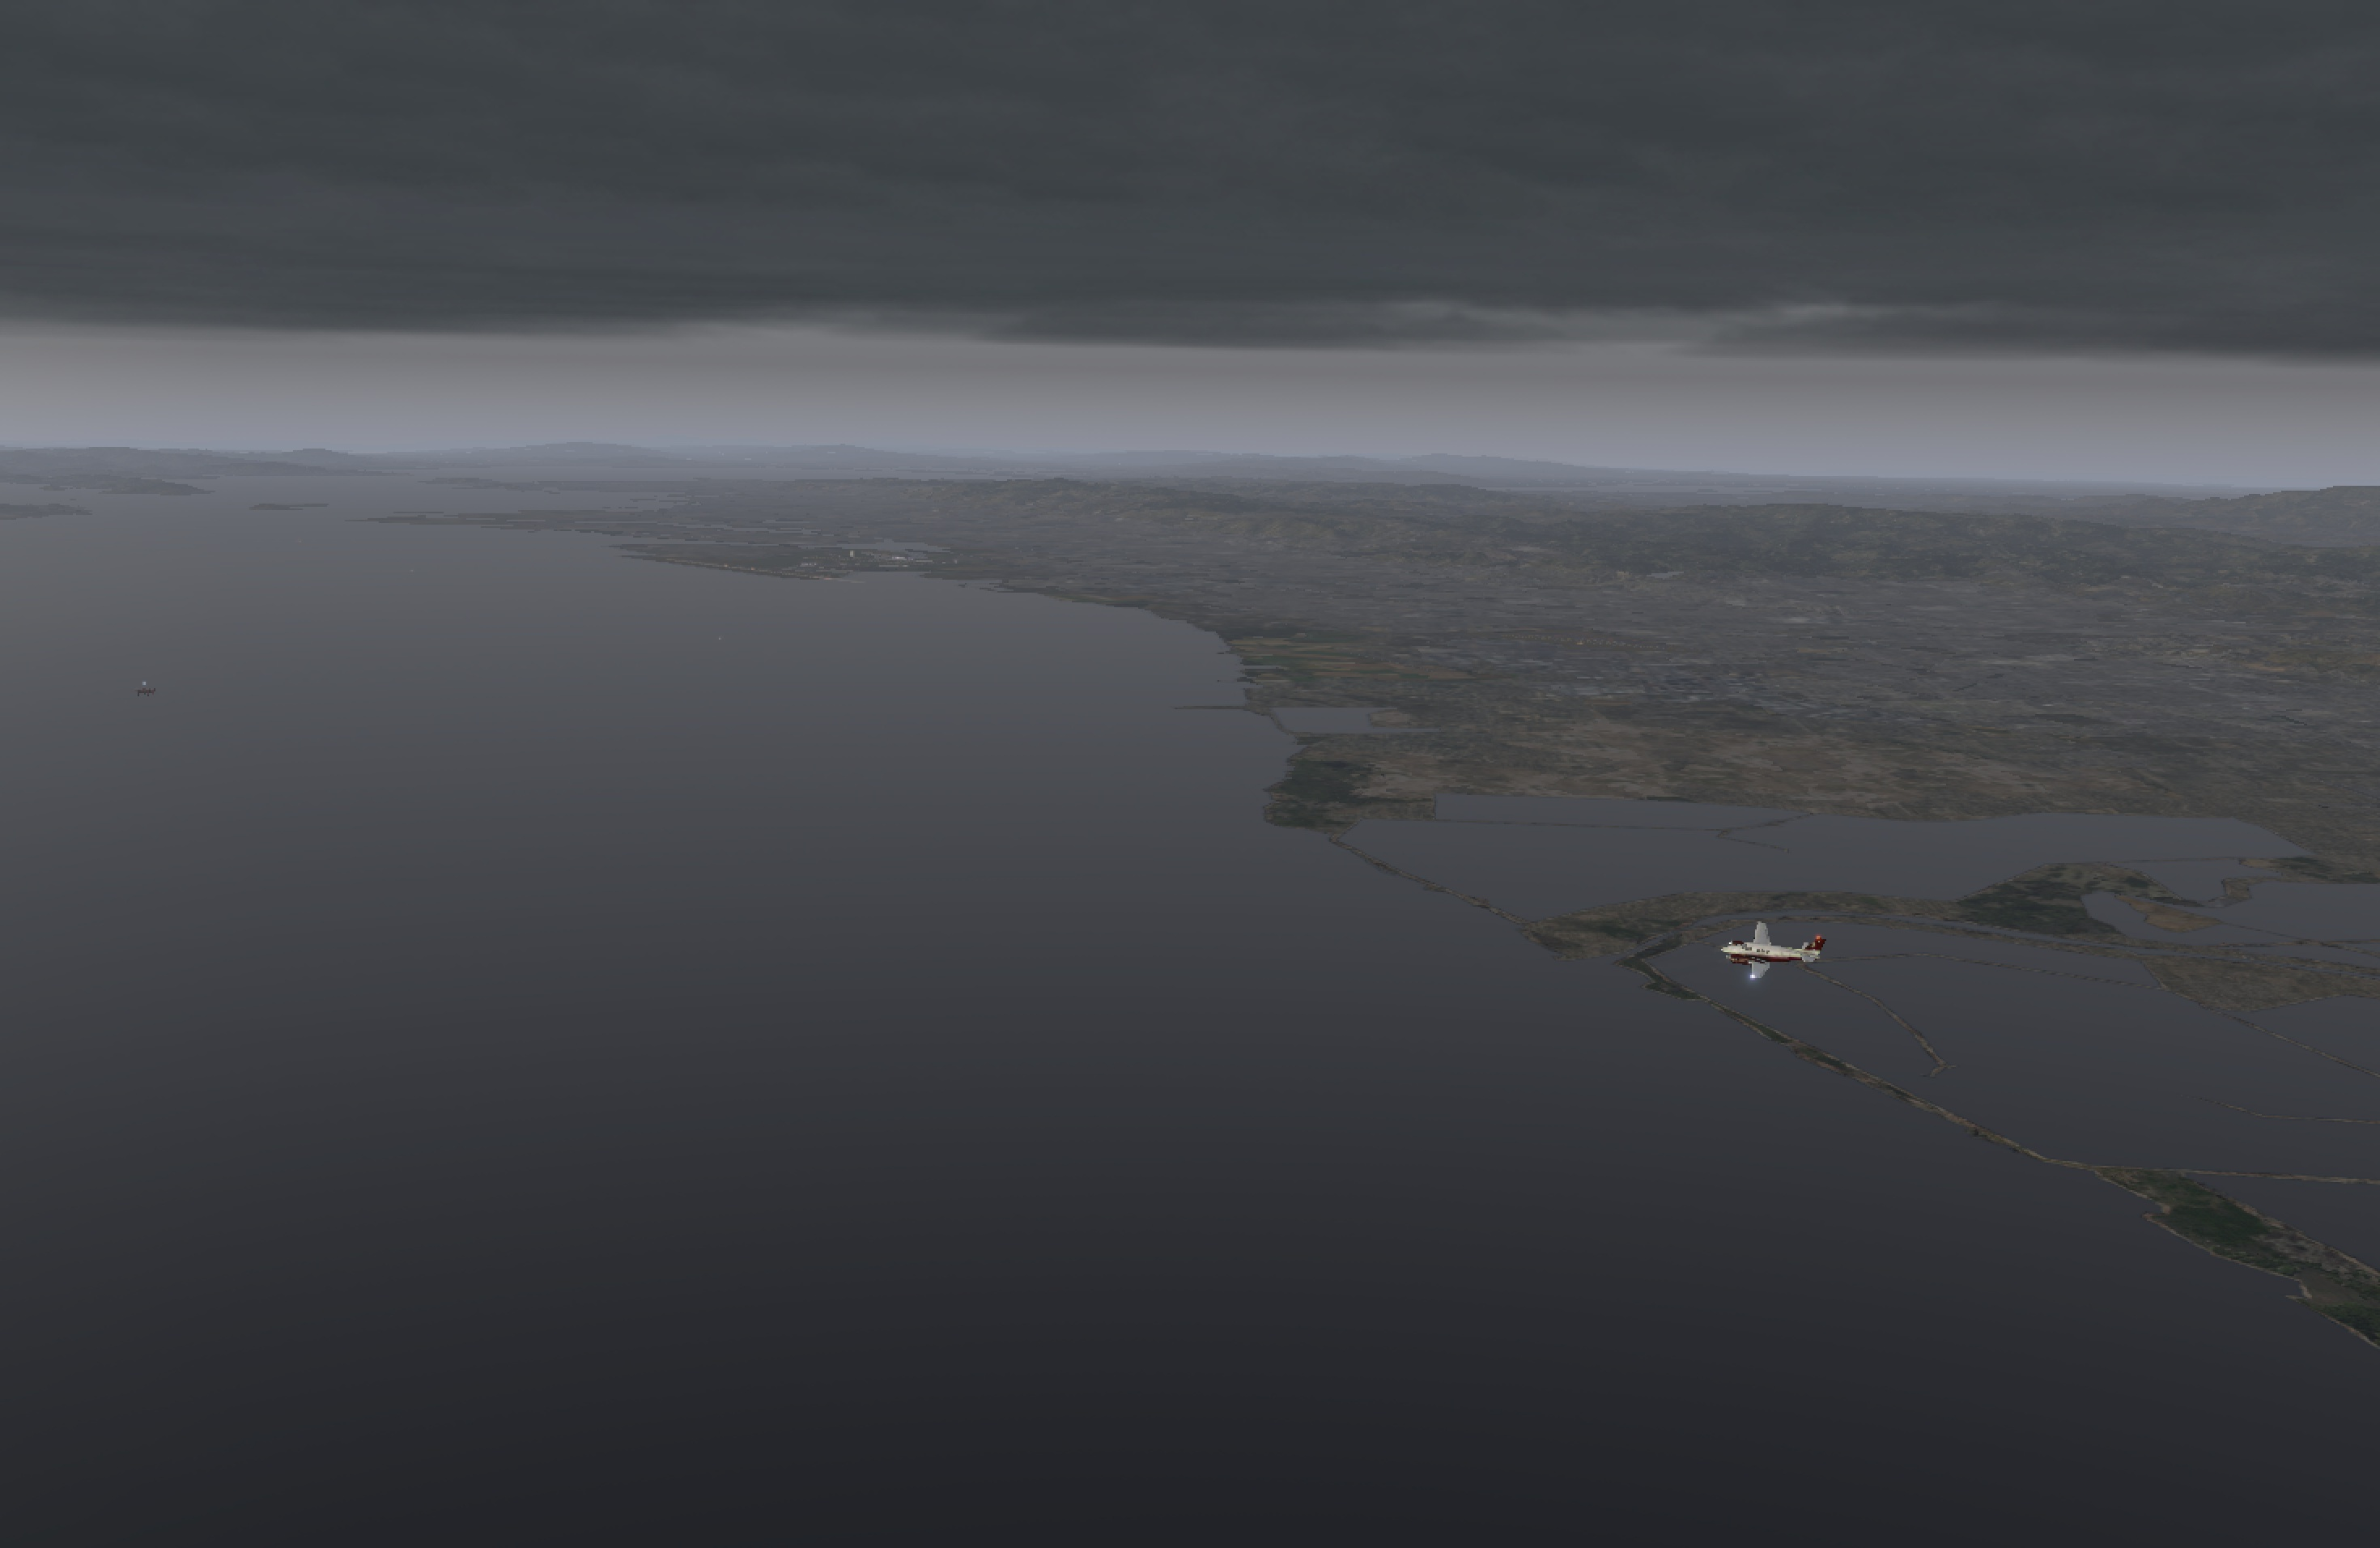aircraft: (1684, 932, 1821, 982)
